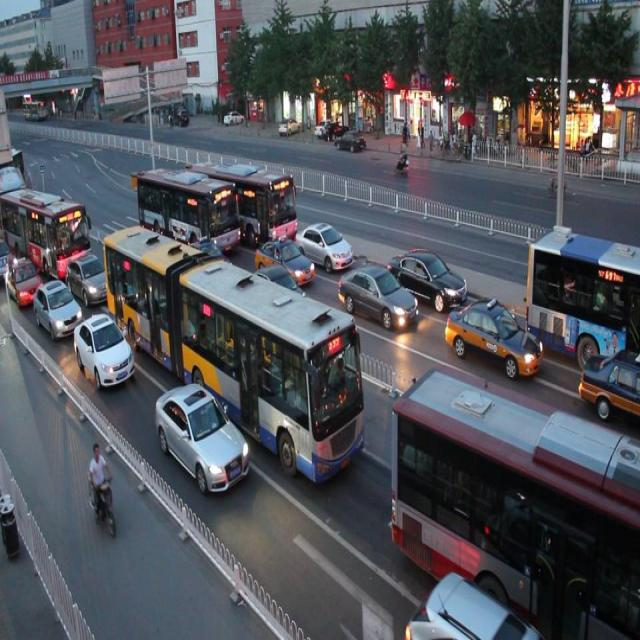car: (153, 379, 250, 493), (404, 567, 542, 640), (446, 294, 544, 382), (337, 258, 416, 331), (390, 243, 468, 309), (576, 344, 640, 422), (246, 263, 315, 332), (74, 314, 132, 389), (253, 230, 314, 289), (294, 214, 352, 273), (180, 236, 238, 291), (34, 277, 80, 337), (66, 253, 113, 308), (0, 250, 42, 307)
van: (102, 218, 366, 482), (392, 361, 640, 639), (524, 225, 640, 360), (136, 160, 240, 262), (191, 153, 298, 248), (1, 182, 90, 272)
